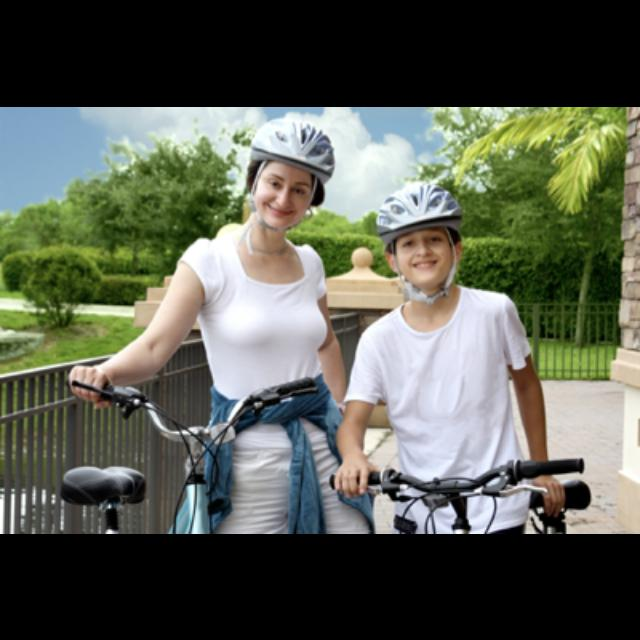With Helmet: (240, 112, 338, 245), (368, 183, 474, 301)
